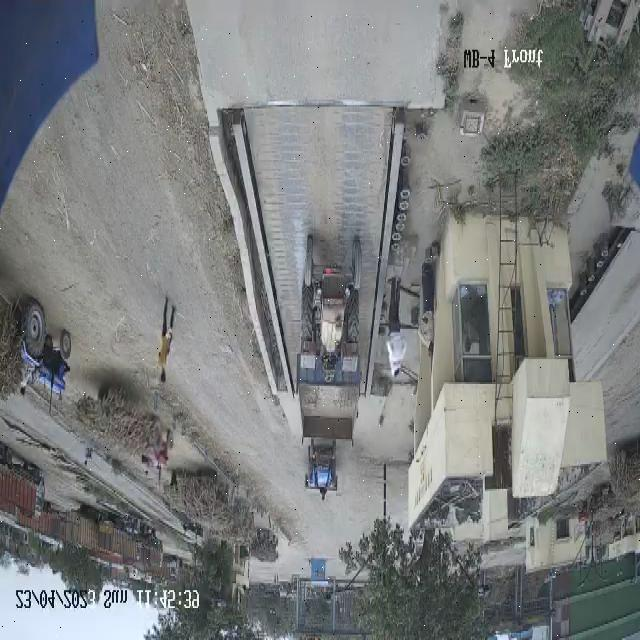Tratores - v5 YOLO V8L 2024-11-13: (293, 227, 368, 387), (11, 296, 78, 402), (304, 426, 347, 500)
